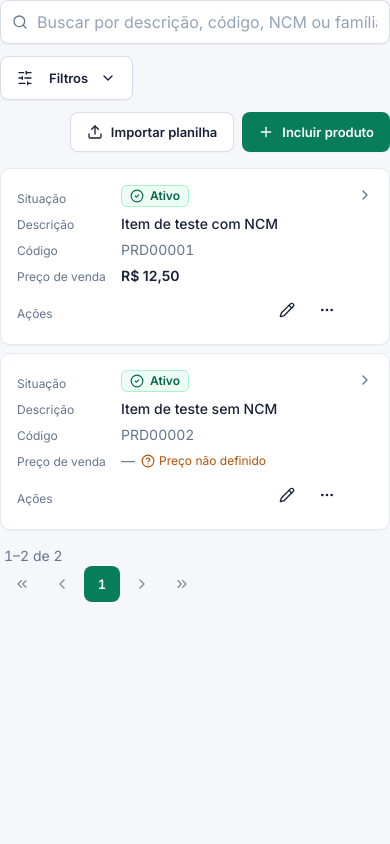
Test: Cadastro de produtos — lista, painel e NCM ausente › abre o painel do produto selecionado com as subabas Dados, Fornecedores e Vínculos
The width and height of the screenshot is (390, 844).
Expected: the tab "Vínculos" is not shown
Click the text "Item de teste com NCM": (200, 224) [121,215,278,232]
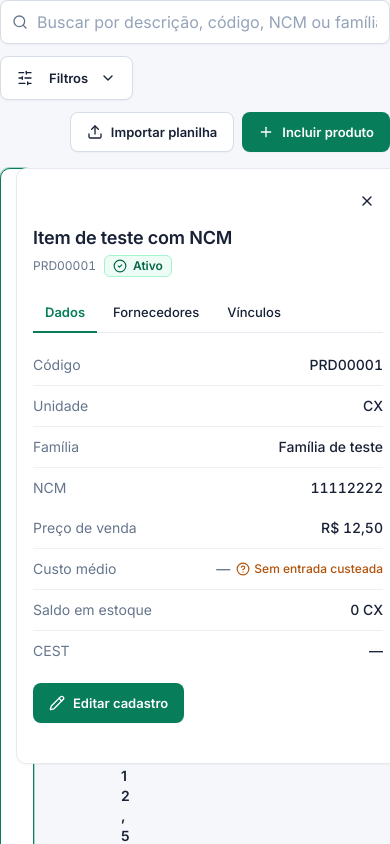
Now the tab "Dados" is shown, box [33,293,97,333]
Now the tab "Fornecedores" is shown, box [101,293,211,333]
Now the tab "Vínculos" is shown, box [215,293,293,333]
